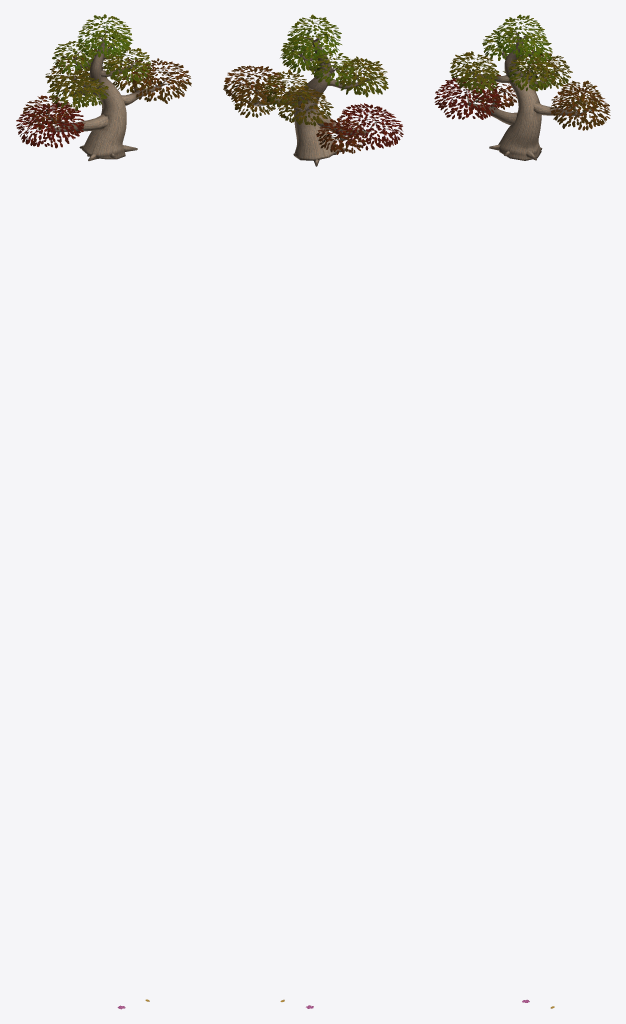
File: bonsai-tree.glb
The picture shows the model from 3 angles, left to right: view 1: azimuth 30°, elevation 25°; view 2: azimuth 150°, elevation 25°; view 3: azimuth 330°, elevation 25°; orthographic projection. The views are drawn at different scales.
Parts seen in each view (by area): view 1: foliage, trunk; view 2: foliage, trunk; view 3: foliage, trunk.
Boxes of the visible parts, x1=… form: foliage: x1=16, y1=14, x2=191, y2=148; trunk: x1=35, y1=30, x2=171, y2=160; foliage: x1=223, y1=14, x2=403, y2=154; trunk: x1=239, y1=33, x2=376, y2=166; foliage: x1=434, y1=14, x2=610, y2=130; trunk: x1=462, y1=30, x2=595, y2=160.
Size of the model in its own units: 0.6505 by 3.56 by 0.3723.
4 materials, 4 textured.
